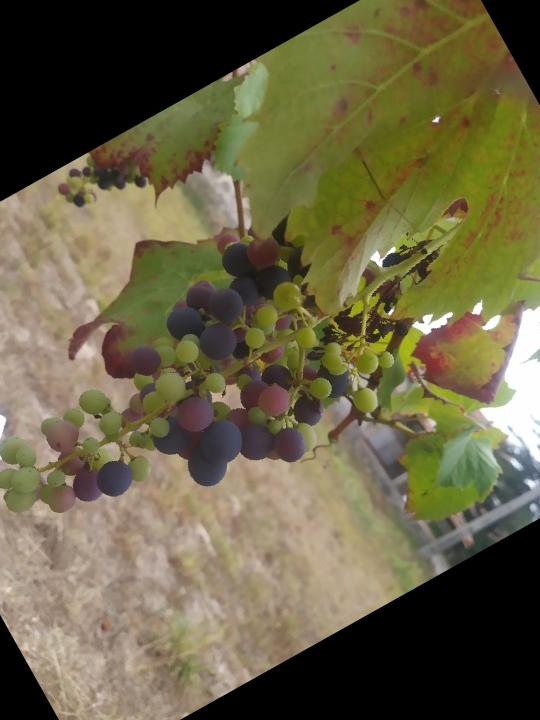grape: (0, 153, 493, 624)
